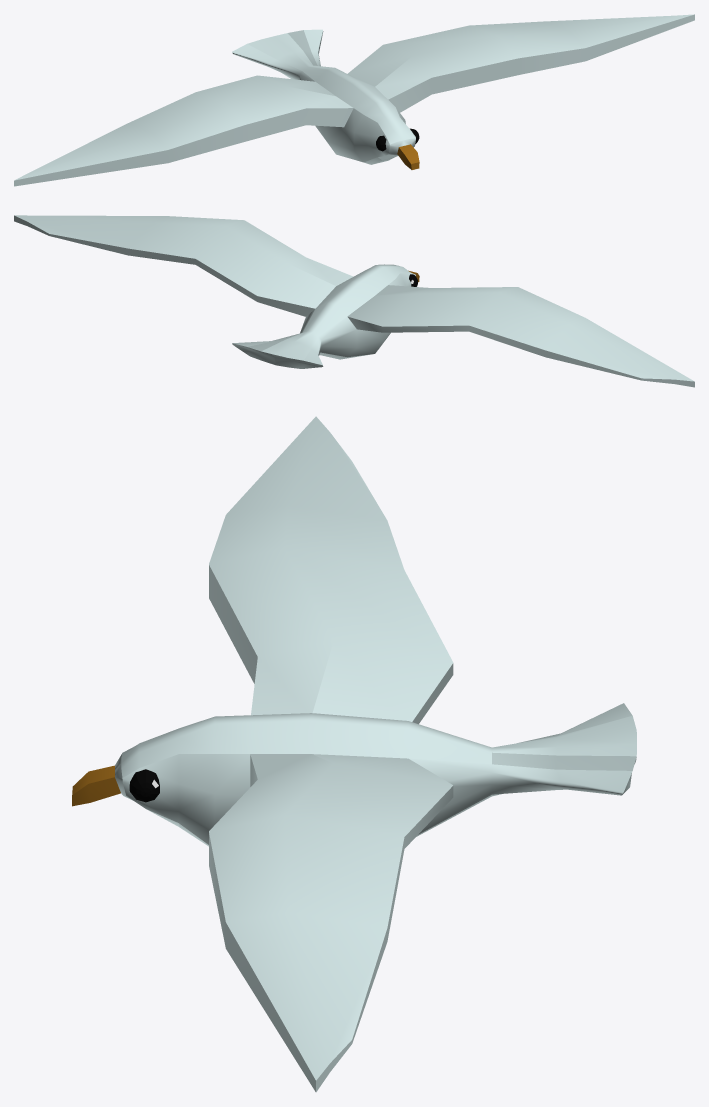
Rendered from Seagull Model.fbx.
3 views of the same model, one above another, from view 1: azimuth 30°, elevation 25°; view 2: azimuth 150°, elevation 25°; view 3: azimuth 270°, elevation 25° (orthographic). The views are drawn at different scales.
Parts seen in each view (by area): view 1: pCube5; view 2: pCube5; view 3: pCube5.
Boxes of the visible parts, x1,y1,x2,y2 form: pCube5: (14,14,694,186); pCube5: (14,215,694,387); pCube5: (72,416,636,1092).
Size of the model in its own units: 21.64 by 2.7 by 7.78.
